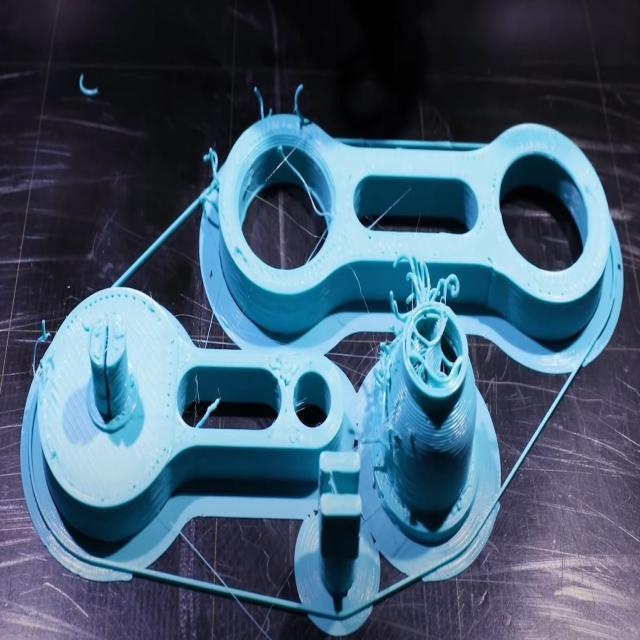Stringing: (347, 233, 466, 451), (175, 245, 288, 360)
